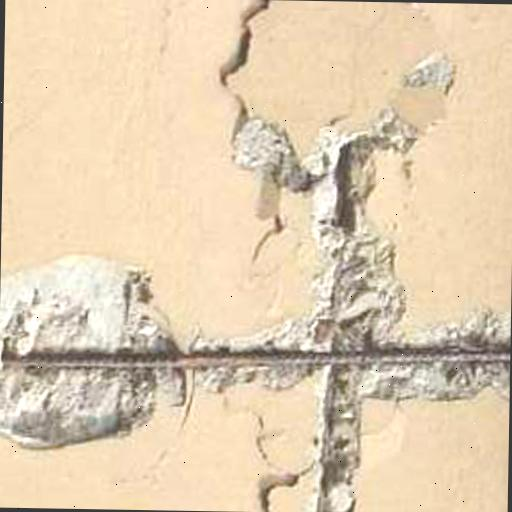spalling: (0, 60, 509, 512)
